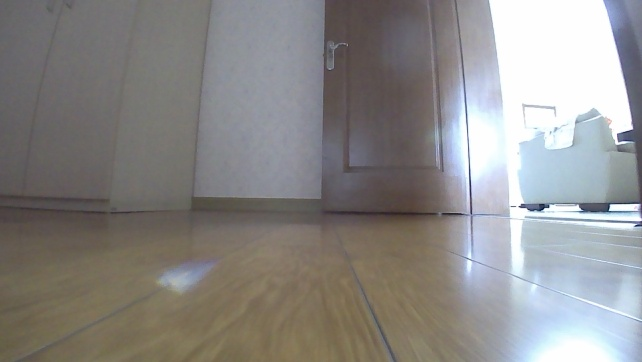door_anno: (315, 0, 480, 218)
sofa1: (518, 106, 640, 214)
